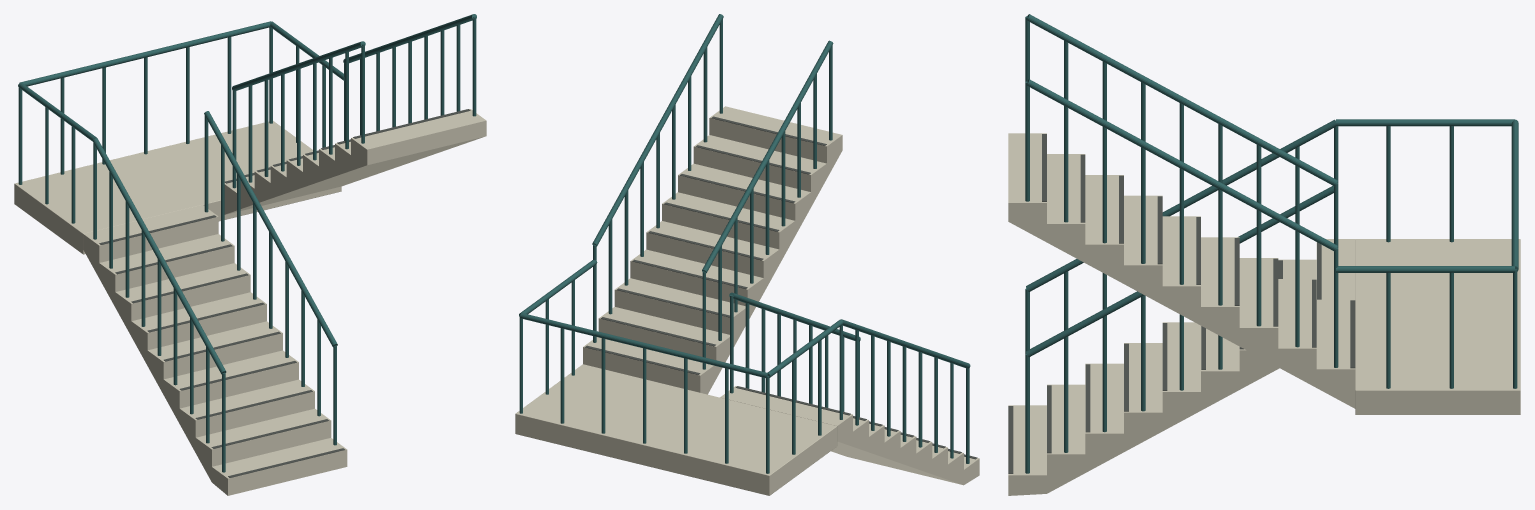
Rendered from hdb-staircase.glb.
The picture shows the model from 3 angles, left to right: view 1: azimuth 30°, elevation 25°; view 2: azimuth 150°, elevation 25°; view 3: azimuth 270°, elevation 25°; orthographic projection. The views are drawn at different scales.
Visible parts, largest first — view 1: LANDING_HalfStorey, STEP_1_09, STEP_0_02, STEP_0_01, STEP_0_03, STEP_0_04, STEP_0_09, STEP_0_08, STEP_0_07, STEP_0_06, STEP_0_05, HANDRAIL_0_-1 (+14 smaller); view 2: LANDING_HalfStorey, STEP_1_03, STEP_1_05, STEP_1_06, STEP_1_08, STEP_1_09, STEP_1_07, STEP_1_04, STEP_1_01, STEP_1_02, STEP_0_09, HANDRAIL_1_1 (+13 smaller); view 3: LANDING_HalfStorey, STEP_1_01, STEP_0_03, STEP_1_03, STEP_0_02, STEP_1_04, STEP_1_05, STEP_1_02, STEP_1_06, STEP_1_08, STEP_1_09, STEP_0_05 (+32 smaller).
Boxes of the visible parts, bbox=[...] form: LANDING_HalfStorey: bbox=[14, 121, 341, 254]; STEP_1_09: bbox=[351, 109, 486, 170]; STEP_0_02: bbox=[195, 408, 331, 481]; STEP_0_01: bbox=[212, 438, 347, 495]; STEP_0_03: bbox=[179, 379, 314, 452]; STEP_0_04: bbox=[163, 350, 298, 423]; STEP_0_09: bbox=[83, 205, 218, 277]; STEP_0_08: bbox=[99, 234, 234, 306]; STEP_0_07: bbox=[115, 263, 250, 335]; STEP_0_06: bbox=[131, 292, 266, 365]; STEP_0_05: bbox=[147, 321, 282, 394]; HANDRAIL_0_-1: bbox=[92, 138, 226, 374]; LANDING_HalfStorey: bbox=[515, 364, 837, 495]; STEP_1_03: bbox=[614, 278, 745, 346]; STEP_1_05: bbox=[646, 221, 779, 292]; STEP_1_06: bbox=[662, 192, 795, 264]; STEP_1_08: bbox=[693, 135, 826, 206]; STEP_1_09: bbox=[709, 106, 842, 177]; STEP_1_07: bbox=[678, 163, 810, 235]; STEP_1_04: bbox=[630, 249, 763, 318]; STEP_1_01: bbox=[583, 337, 716, 394]; STEP_1_02: bbox=[598, 307, 729, 378]; STEP_0_09: bbox=[720, 386, 852, 446]; HANDRAIL_1_1: bbox=[592, 14, 723, 246]; LANDING_HalfStorey: bbox=[1355, 239, 1520, 414]; STEP_1_01: bbox=[1316, 299, 1355, 408]; STEP_0_03: bbox=[1085, 363, 1123, 472]; STEP_1_03: bbox=[1239, 258, 1278, 366]; STEP_0_02: bbox=[1047, 384, 1085, 493]; STEP_1_04: bbox=[1201, 237, 1239, 346]; STEP_1_05: bbox=[1162, 216, 1200, 325]; STEP_1_02: bbox=[1278, 279, 1316, 387]; STEP_1_06: bbox=[1124, 195, 1162, 304]; STEP_1_08: bbox=[1047, 154, 1085, 262]; STEP_1_09: bbox=[1008, 133, 1046, 242]; STEP_0_05: bbox=[1162, 322, 1200, 430].
Bounding box in the file's own units: 2.6 × 3.97 × 3.72.
